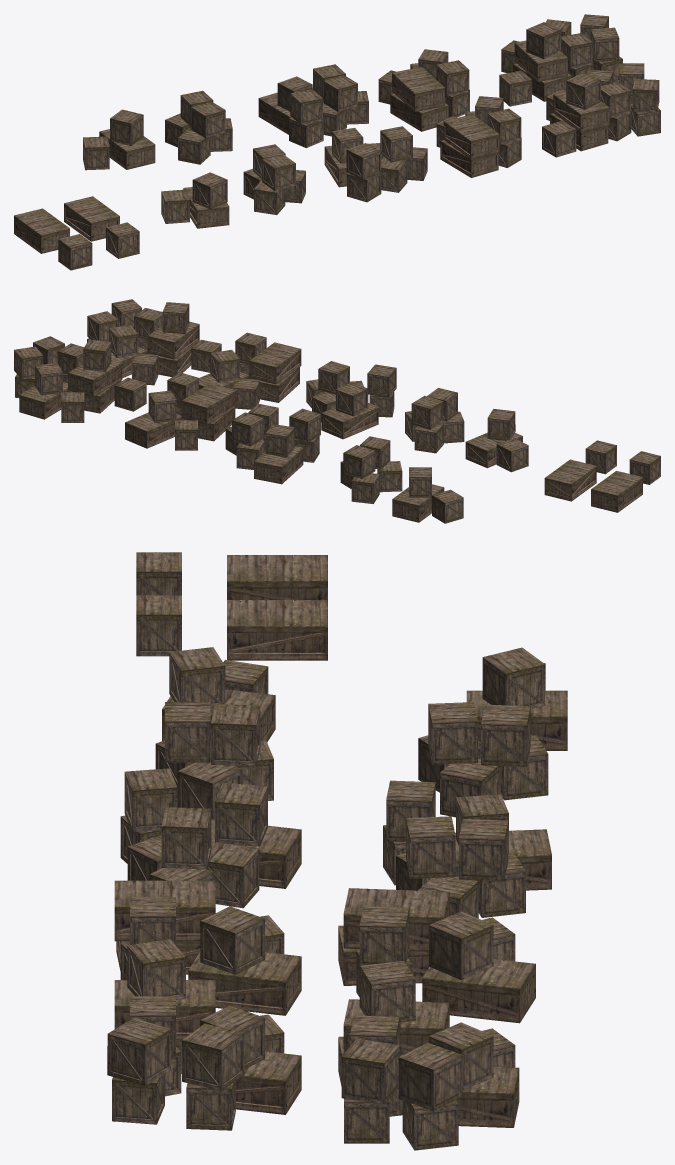
File: Wooden_box_v1.FBX
3 renders of one model, top to bottom at view 1: azimuth 30°, elevation 25°; view 2: azimuth 150°, elevation 25°; view 3: azimuth 270°, elevation 25°, orthographic. The views are drawn at different scales.
Parts seen in each view (by area): view 1: Wooden_box_v1_LD2_SET5, Wooden_box_v1_LD1_SET5, Wooden_box_v1_LD1_SET3, Wooden_box_v1_LD2_SET3, Wooden_box_v1_LD1_SET4, Wooden_box_v1_LD2_SET4, Wooden_box_v1_LD1_SET2, Wooden_box_v1_LD2_SET2, Wooden_box_v1_LD1_SET1, Wooden_box_v1_LD2_SET1, Wooden_box_v1_LD1, Wooden_box_v1_LD2 (+2 smaller); view 2: Wooden_box_v1_LD1_SET5, Wooden_box_v1_LD2_SET5, Wooden_box_v1_LD1_SET4, Wooden_box_v1_LD1_SET3, Wooden_box_v1_LD2_SET3, Wooden_box_v1_LD2_SET4, Wooden_box_v1_LD1_SET2, Wooden_box_v1_LD2_SET2, Wooden_box_v1_LD2_SET1, Wooden_box_v1_LD1_SET1, Wooden_box_v1_LD2, Wooden_box_v1_LD1 (+2 smaller); view 3: Wooden_box_v1_LD2_SET5, Wooden_box_v1_LD1_SET5, Wooden_box_v1_LD1_SET4, Wooden_box_v1_LD2_SET3, Wooden_box_v1_LD1_SET3, Wooden_box_v1_LD2_SET4, Wooden_box_v1_LD1_SET2, Wooden_box_v1_LD2_SET2, Wooden_box_v1_LD2, Wooden_box_v1_LD1_SET1, Wooden_box_v1_LD2_SET1, Wooden_box_v1_LD1 (+2 smaller).
Boxes of the visible parts, x1,y1,x2,y2 form: Wooden_box_v1_LD2_SET5: (542, 63, 660, 157); Wooden_box_v1_LD1_SET5: (499, 14, 622, 106); Wooden_box_v1_LD1_SET3: (258, 64, 368, 148); Wooden_box_v1_LD2_SET3: (324, 126, 427, 202); Wooden_box_v1_LD1_SET4: (378, 49, 469, 131); Wooden_box_v1_LD2_SET4: (436, 96, 521, 177); Wooden_box_v1_LD1_SET2: (165, 90, 232, 164); Wooden_box_v1_LD2_SET2: (243, 144, 305, 214); Wooden_box_v1_LD1_SET1: (83, 109, 155, 170); Wooden_box_v1_LD2_SET1: (161, 172, 229, 228); Wooden_box_v1_LD1: (14, 208, 69, 253); Wooden_box_v1_LD2: (64, 196, 119, 241); Wooden_box_v1_LD1_SET5: (14, 336, 146, 422); Wooden_box_v1_LD2_SET5: (87, 299, 221, 385); Wooden_box_v1_LD1_SET4: (125, 372, 235, 450); Wooden_box_v1_LD1_SET3: (225, 403, 320, 484); Wooden_box_v1_LD2_SET3: (306, 361, 396, 439); Wooden_box_v1_LD2_SET4: (199, 332, 301, 409); Wooden_box_v1_LD1_SET2: (340, 436, 402, 503); Wooden_box_v1_LD2_SET2: (405, 388, 464, 453); Wooden_box_v1_LD2_SET1: (465, 409, 528, 472); Wooden_box_v1_LD1_SET1: (392, 467, 463, 523); Wooden_box_v1_LD2: (544, 459, 596, 501); Wooden_box_v1_LD1: (591, 471, 642, 512); Wooden_box_v1_LD2_SET5: (107, 939, 301, 1130); Wooden_box_v1_LD1_SET5: (338, 960, 519, 1150); Wooden_box_v1_LD1_SET4: (338, 888, 535, 1023); Wooden_box_v1_LD2_SET3: (120, 768, 301, 908); Wooden_box_v1_LD1_SET3: (383, 780, 551, 918); Wooden_box_v1_LD2_SET4: (114, 880, 301, 1015); Wooden_box_v1_LD1_SET2: (418, 702, 548, 817); Wooden_box_v1_LD2_SET2: (155, 702, 273, 819); Wooden_box_v1_LD2: (227, 600, 327, 660); Wooden_box_v1_LD1_SET1: (466, 647, 567, 750); Wooden_box_v1_LD2_SET1: (162, 647, 275, 742); Wooden_box_v1_LD1: (227, 555, 327, 599).
Bounding box in the file's own units: 23.64 × 2.17 × 8.15.
